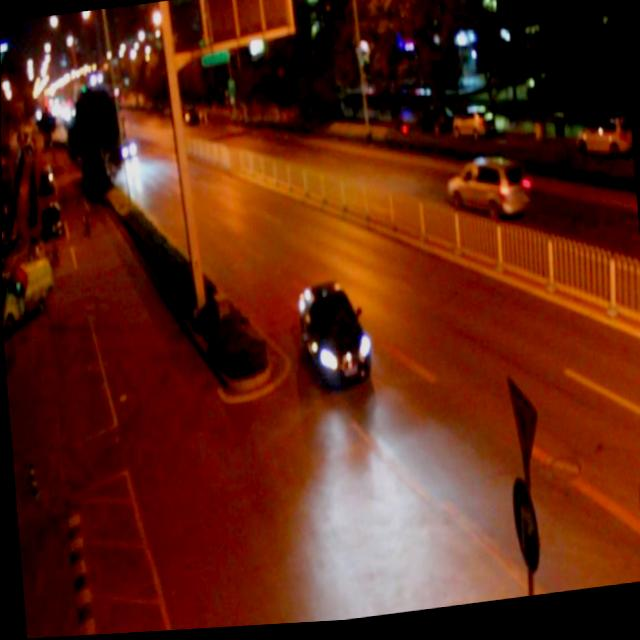car: (292, 279, 371, 393), (446, 155, 530, 231), (115, 134, 138, 162)
